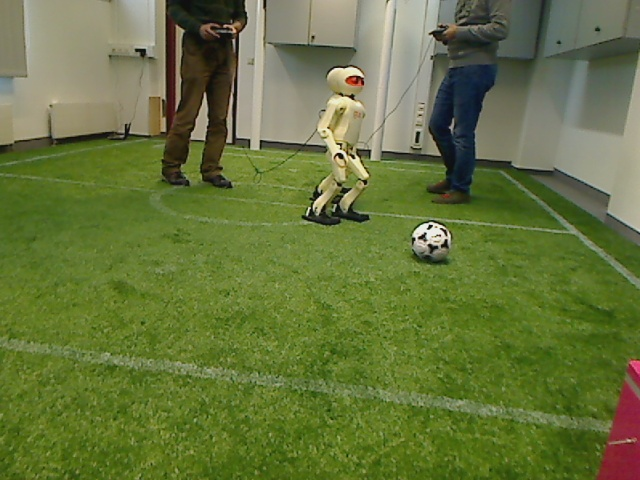ball: (407, 220, 456, 267)
robot: (299, 65, 370, 227)
